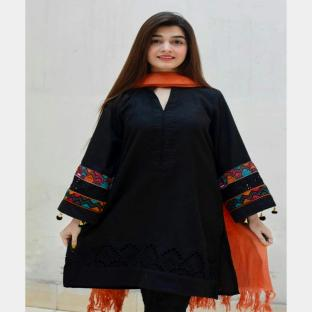Human: (57, 12, 277, 312)
